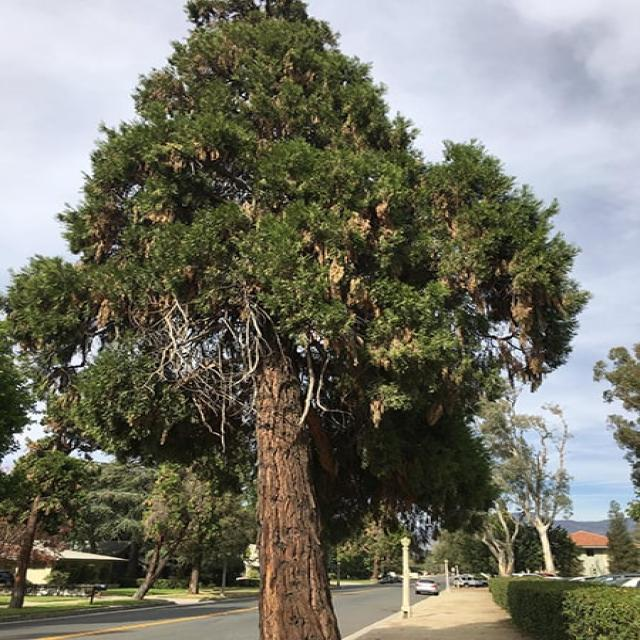Calocedrus decurrens: (7, 1, 592, 640)
